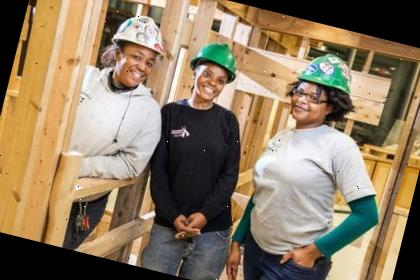helmet: (294, 45, 360, 98), (109, 9, 173, 60), (188, 36, 244, 82)
no_wear: (244, 124, 361, 263), (141, 96, 252, 237), (61, 75, 166, 185)
